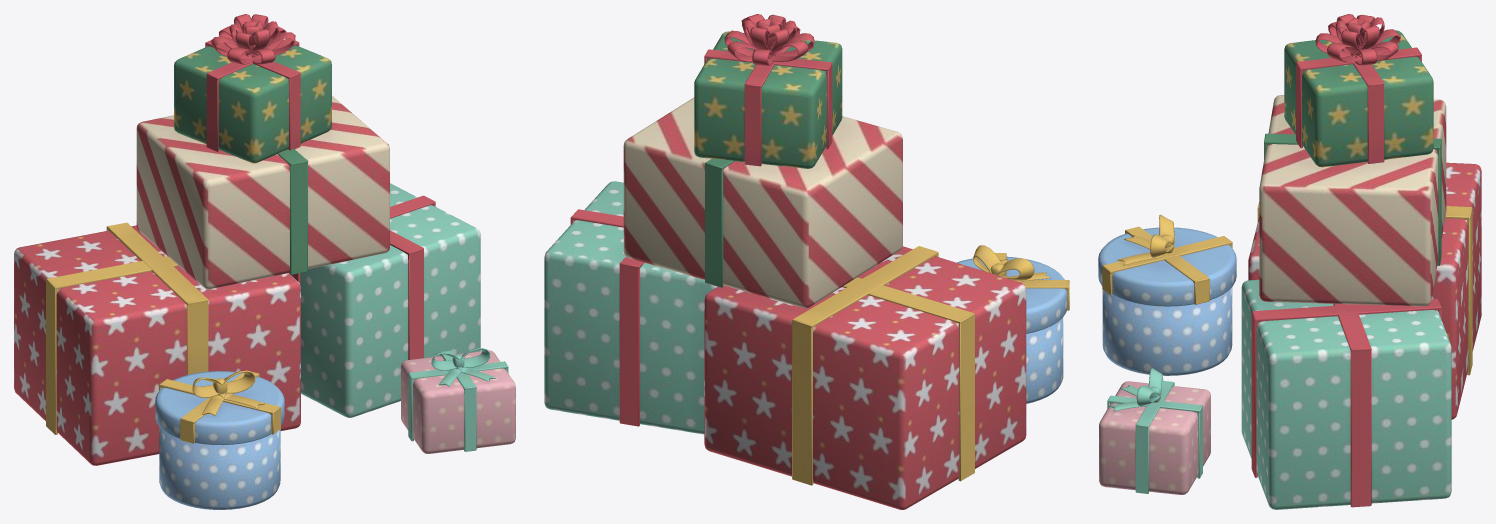
File: pila_regalos.glb
3 views of the same model, side by side, from view 1: azimuth 30°, elevation 25°; view 2: azimuth 150°, elevation 25°; view 3: azimuth 270°, elevation 25° (orthographic). The views are drawn at different scales.
Parts seen in each view (by area): view 1: gift-box-stack_body; view 2: gift-box-stack_body; view 3: gift-box-stack_body.
Part boxes in pixels (box(x1,y1,x2,y2)): gift-box-stack_body: box(14, 14, 515, 509); gift-box-stack_body: box(544, 14, 1069, 509); gift-box-stack_body: box(1098, 14, 1481, 509).
Bounding box in the file's own units: 0.7754 × 0.7033 × 0.6208.
Materials: 1 (1 with a texture image).
